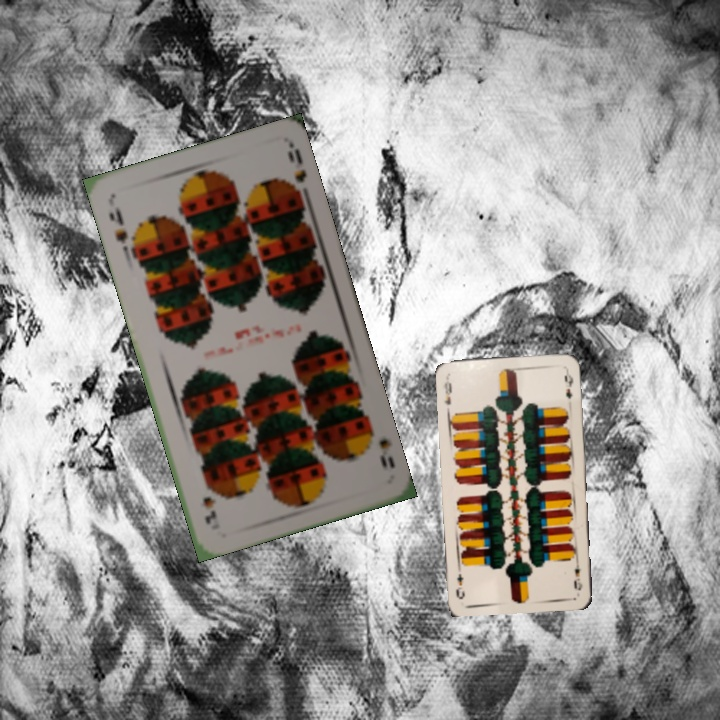E9: (569, 555, 585, 593), (440, 376, 454, 408)
S9: (365, 421, 397, 471), (104, 202, 130, 247)
